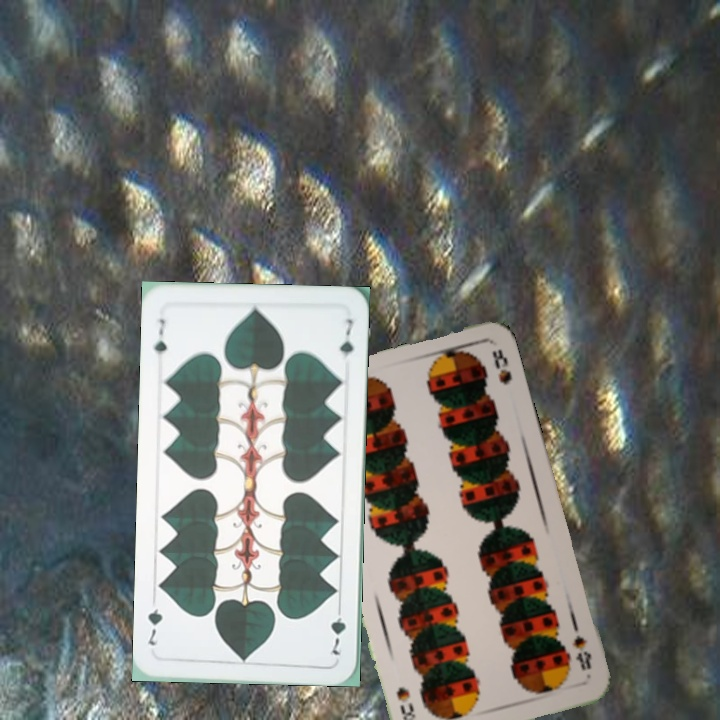G7: (327, 601, 349, 658), (150, 315, 169, 365)
S8: (568, 631, 594, 673)
